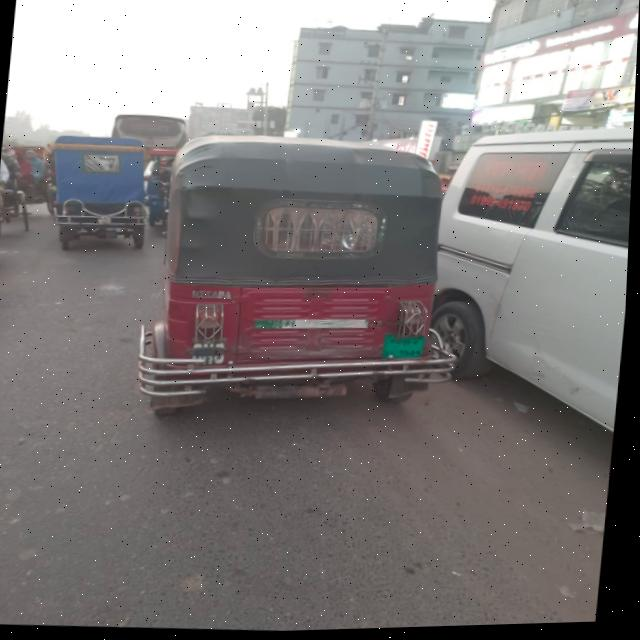cng: (146, 107, 504, 482)
